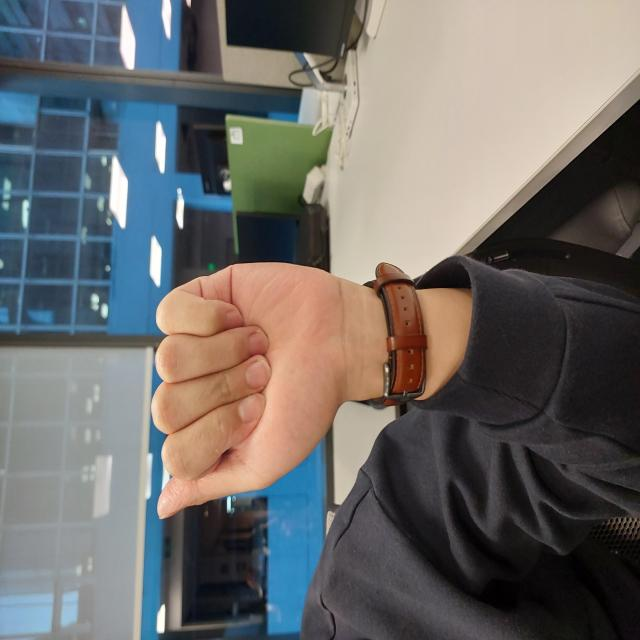A: (120, 152, 378, 340)
